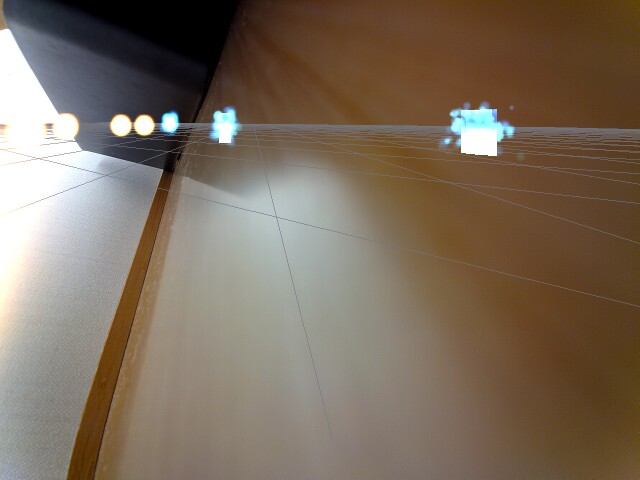firebig: (0, 96, 47, 161)
